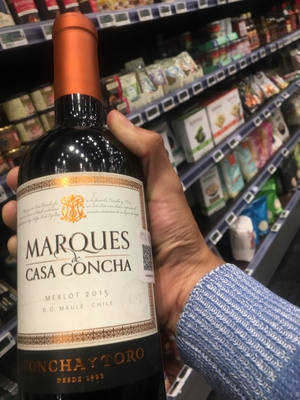marques de casa concha merlot: (8, 18, 162, 400)
